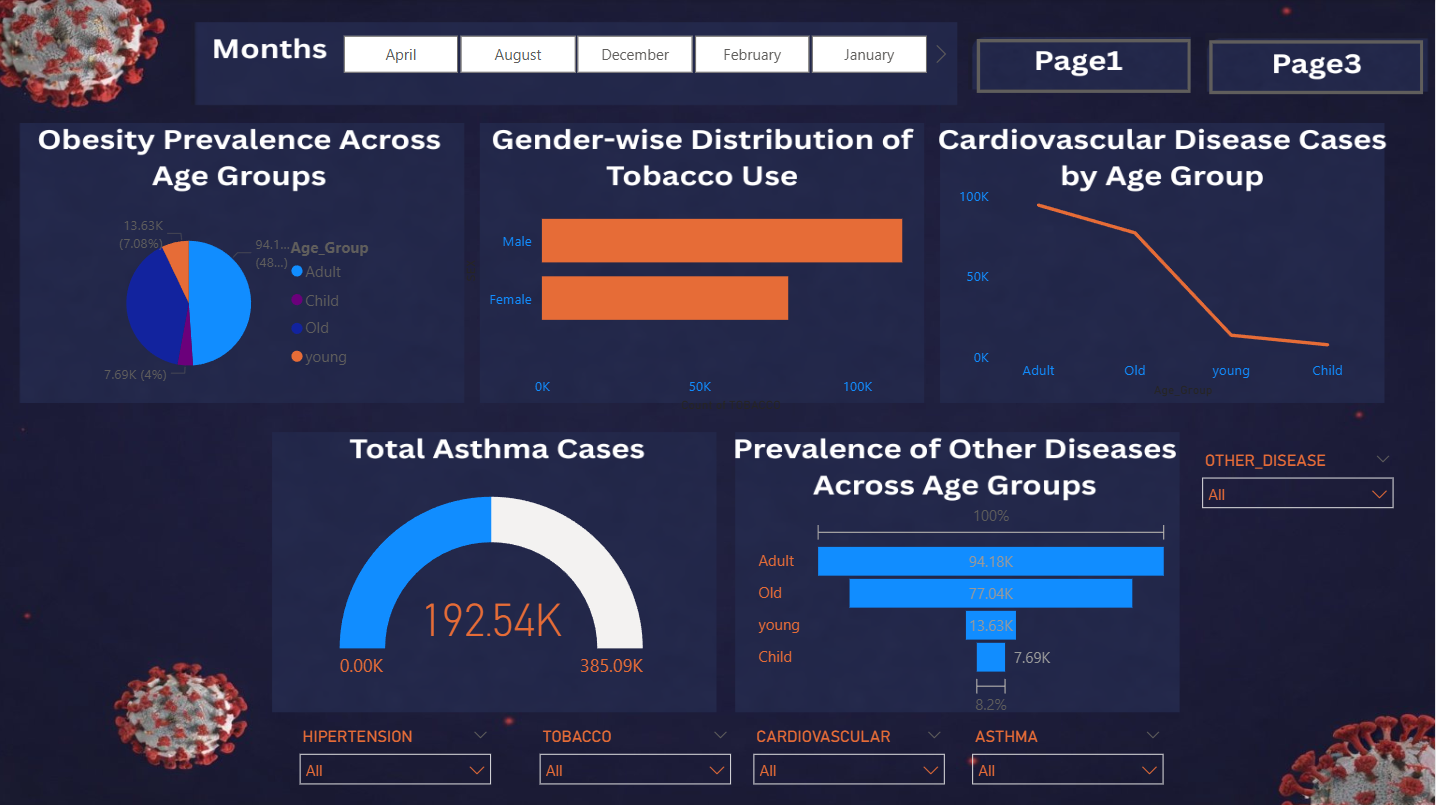

This screenshot's page, from the dashboard's own definition file:
{"tool":"powerbi","page":{"name":"Page 2","canvas":[1280,720],"ordinal":1},"visuals":[{"type":"pieChart","fields":{"Y":["CountNonNull(CovidData_Cleaned.OBESITY)"],"Series":["CovidData_Cleaned.Age_Group"]},"box":[74.1,182.5,279.9,177],"z":0},{"type":"barChart","fields":{"Y":["CountNonNull(CovidData_Cleaned.TOBACCO)"],"Category":["CovidData_Cleaned.SEX"]},"box":[410.3,137.2,429.5,236],"z":1000},{"type":"lineChart","fields":{"Y":["CountNonNull(CovidData_Cleaned.CARDIOVASCULAR)"],"Category":["CovidData_Cleaned.Age_Group"]},"box":[850.8,161.9,373.2,197.6],"z":2000},{"type":"gauge","fields":{"Y":["CountNonNull(CovidData_Cleaned.ASTHMA)"]},"box":[299.1,433.6,279.9,185.2],"z":3000},{"type":"funnel","fields":{"Category":["CovidData_Cleaned.Age_Group"],"Y":["CountNonNull(CovidData_Cleaned.OTHER_DISEASE)"]},"box":[672.4,444.6,376,199],"z":4000},{"type":"slicer","fields":{"Values":["CovidData_Cleaned.Month Name"]},"box":[281.3,26.1,569.5,46.7],"z":5000},{"type":"actionButton","box":[871.4,35.7,190.7,48],"z":6000},{"type":"actionButton","box":[1078.6,37,190.7,48],"z":7000},{"type":"slicer","fields":{"Values":["CovidData_Cleaned.HIPERTENSION"]},"box":[258,643.6,190.7,61.7],"z":8000},{"type":"slicer","fields":{"Values":["CovidData_Cleaned.TOBACCO"]},"box":[472,643.6,190.7,61.7],"z":9000},{"type":"slicer","fields":{"Values":["CovidData_Cleaned.CARDIOVASCULAR"]},"box":[662.8,643.6,190.7,71.4],"z":10000},{"type":"slicer","fields":{"Values":["CovidData_Cleaned.ASTHMA"]},"box":[857.6,643.6,190.7,71.4],"z":11000},{"type":"slicer","fields":{"Values":["CovidData_Cleaned.OTHER_DISEASE"]},"box":[1062.1,397.9,190.7,71.4],"z":12000}]}

Visuals, with their boxes in screenshot pixels (x1, y1, x2, y2), scaled from the page's 1280x720 canvas onto the 1436x805 screenshot:
pieChart - CountNonNull(CovidData_Cleaned.OBESITY) x CovidData_Cleaned.Age_Group: pyautogui.locateOnScreen(83, 204, 397, 402)
barChart - CountNonNull(CovidData_Cleaned.TOBACCO) x CovidData_Cleaned.SEX: pyautogui.locateOnScreen(460, 153, 942, 417)
lineChart - CountNonNull(CovidData_Cleaned.CARDIOVASCULAR) x CovidData_Cleaned.Age_Group: pyautogui.locateOnScreen(954, 181, 1373, 402)
gauge - CountNonNull(CovidData_Cleaned.ASTHMA): pyautogui.locateOnScreen(336, 485, 650, 692)
funnel - CovidData_Cleaned.Age_Group x CountNonNull(CovidData_Cleaned.OTHER_DISEASE): pyautogui.locateOnScreen(754, 497, 1176, 720)
slicer - CovidData_Cleaned.Month Name: pyautogui.locateOnScreen(316, 29, 954, 81)
actionButton: pyautogui.locateOnScreen(978, 40, 1192, 94)
actionButton: pyautogui.locateOnScreen(1210, 41, 1424, 95)
slicer - CovidData_Cleaned.HIPERTENSION: pyautogui.locateOnScreen(289, 720, 503, 789)
slicer - CovidData_Cleaned.TOBACCO: pyautogui.locateOnScreen(530, 720, 743, 789)
slicer - CovidData_Cleaned.CARDIOVASCULAR: pyautogui.locateOnScreen(744, 720, 958, 799)
slicer - CovidData_Cleaned.ASTHMA: pyautogui.locateOnScreen(962, 720, 1176, 799)
slicer - CovidData_Cleaned.OTHER_DISEASE: pyautogui.locateOnScreen(1192, 445, 1405, 525)
